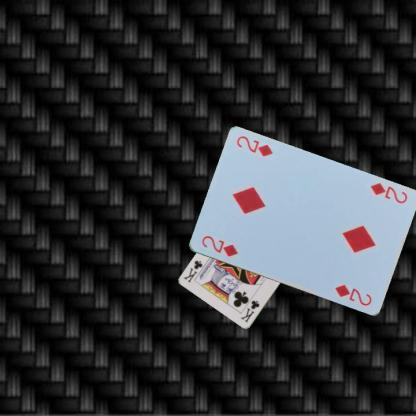2d: (198, 233, 239, 258), (368, 180, 408, 205)
Kc: (238, 298, 261, 324)
